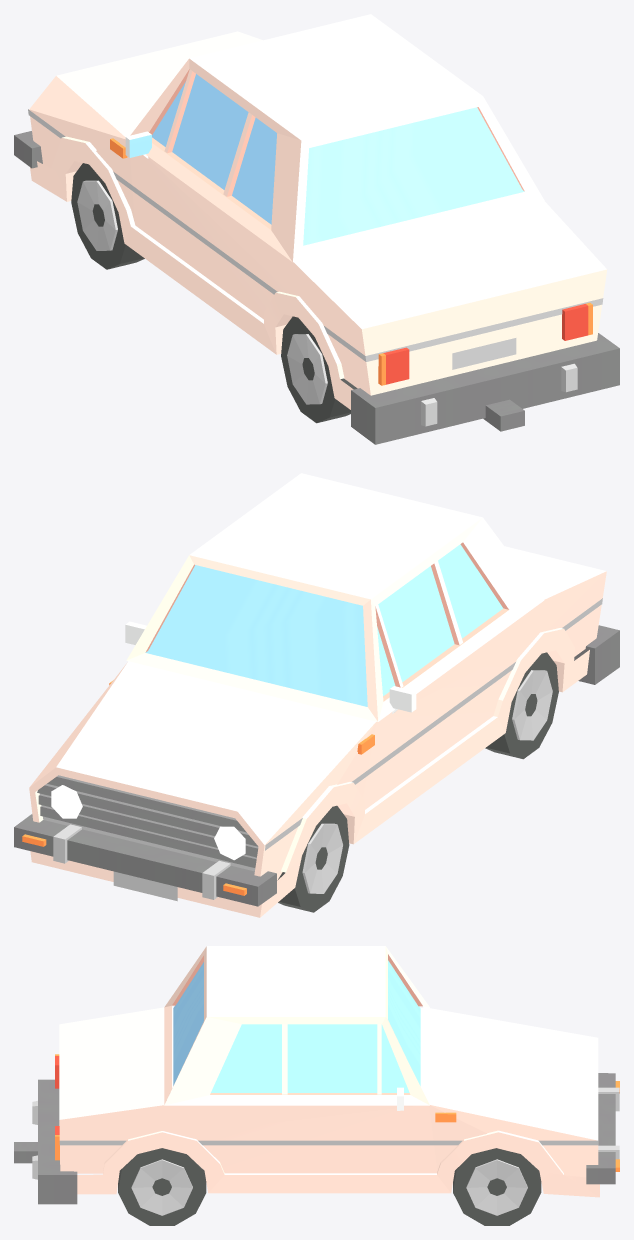
The model's file is transport_old.005.glb.
3 renders of one model, top to bottom at view 1: azimuth 30°, elevation 25°; view 2: azimuth 150°, elevation 25°; view 3: azimuth 270°, elevation 25°, orthographic. The views are drawn at different scales.
Visible parts, largest first — view 1: transport_old.005(Clone); view 2: transport_old.005(Clone); view 3: transport_old.005(Clone).
Boxes of the visible parts, bbox=[...] form: transport_old.005(Clone): bbox=[14, 14, 619, 444]; transport_old.005(Clone): bbox=[14, 473, 619, 917]; transport_old.005(Clone): bbox=[14, 946, 619, 1225].
Size of the model in its own units: 1.48 by 1.24 by 3.39.
Materials: 1 (1 with a texture image).
